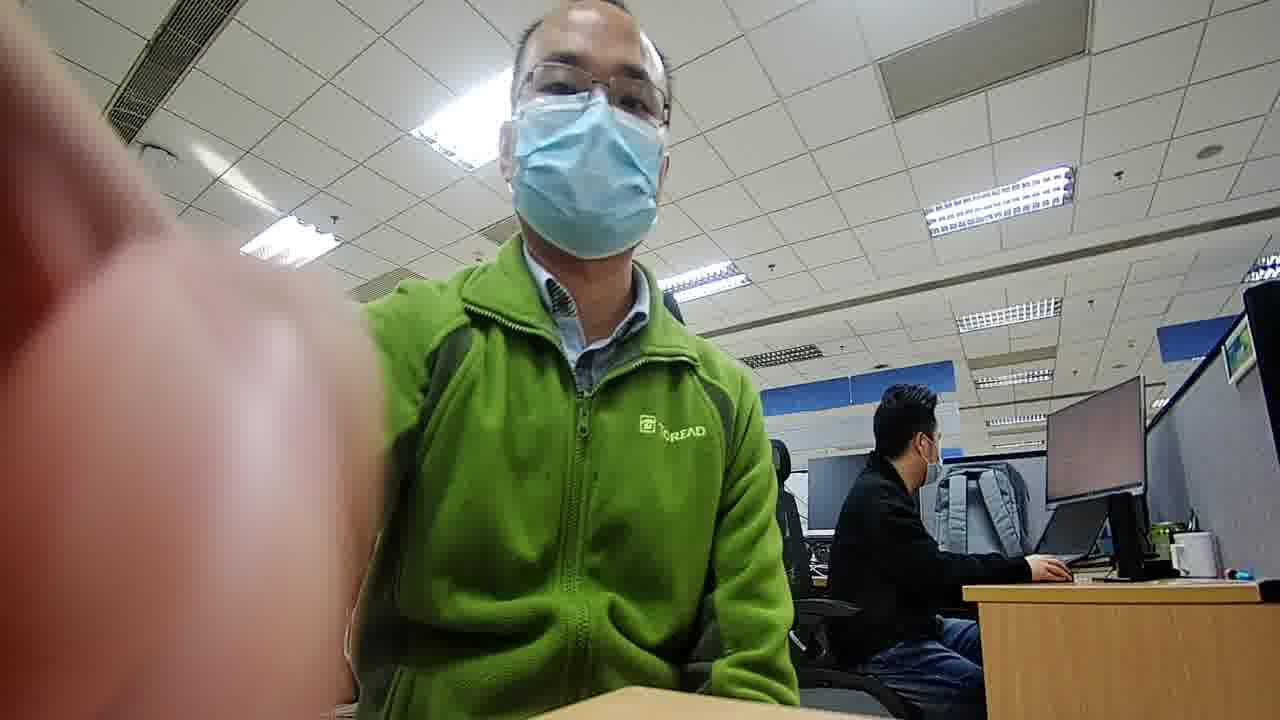face: (509, 15, 668, 260)
mask: (507, 90, 660, 258)
person: (366, 1, 749, 400), (839, 377, 956, 542)
